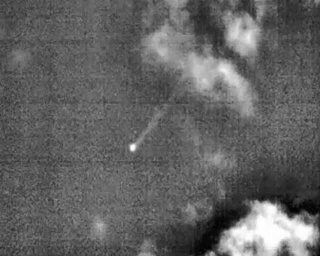AIRPLANE: (126, 81, 189, 157)
